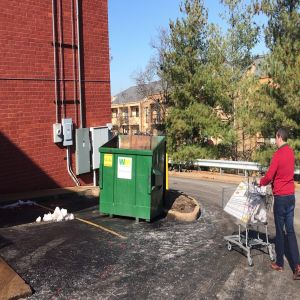Dumpster: (95, 132, 172, 230)
Person: (256, 127, 300, 275)
